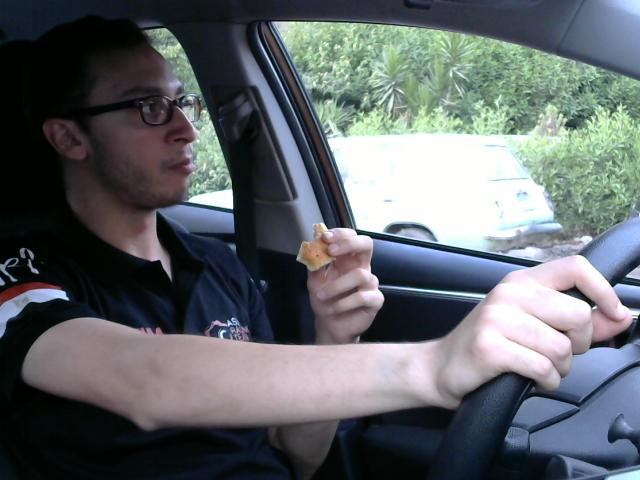Eating: (286, 212, 352, 283)
